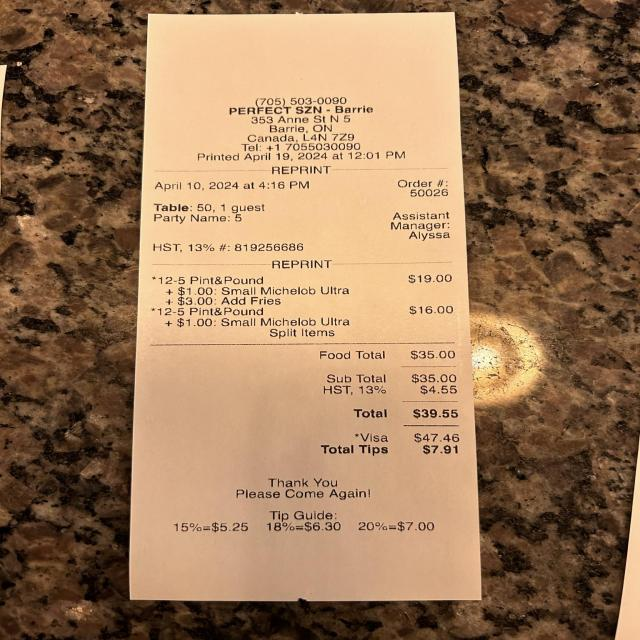item: (188, 270, 459, 289), (187, 304, 461, 318)
store_name: (222, 103, 378, 118)
total_amount: (348, 402, 467, 424)
